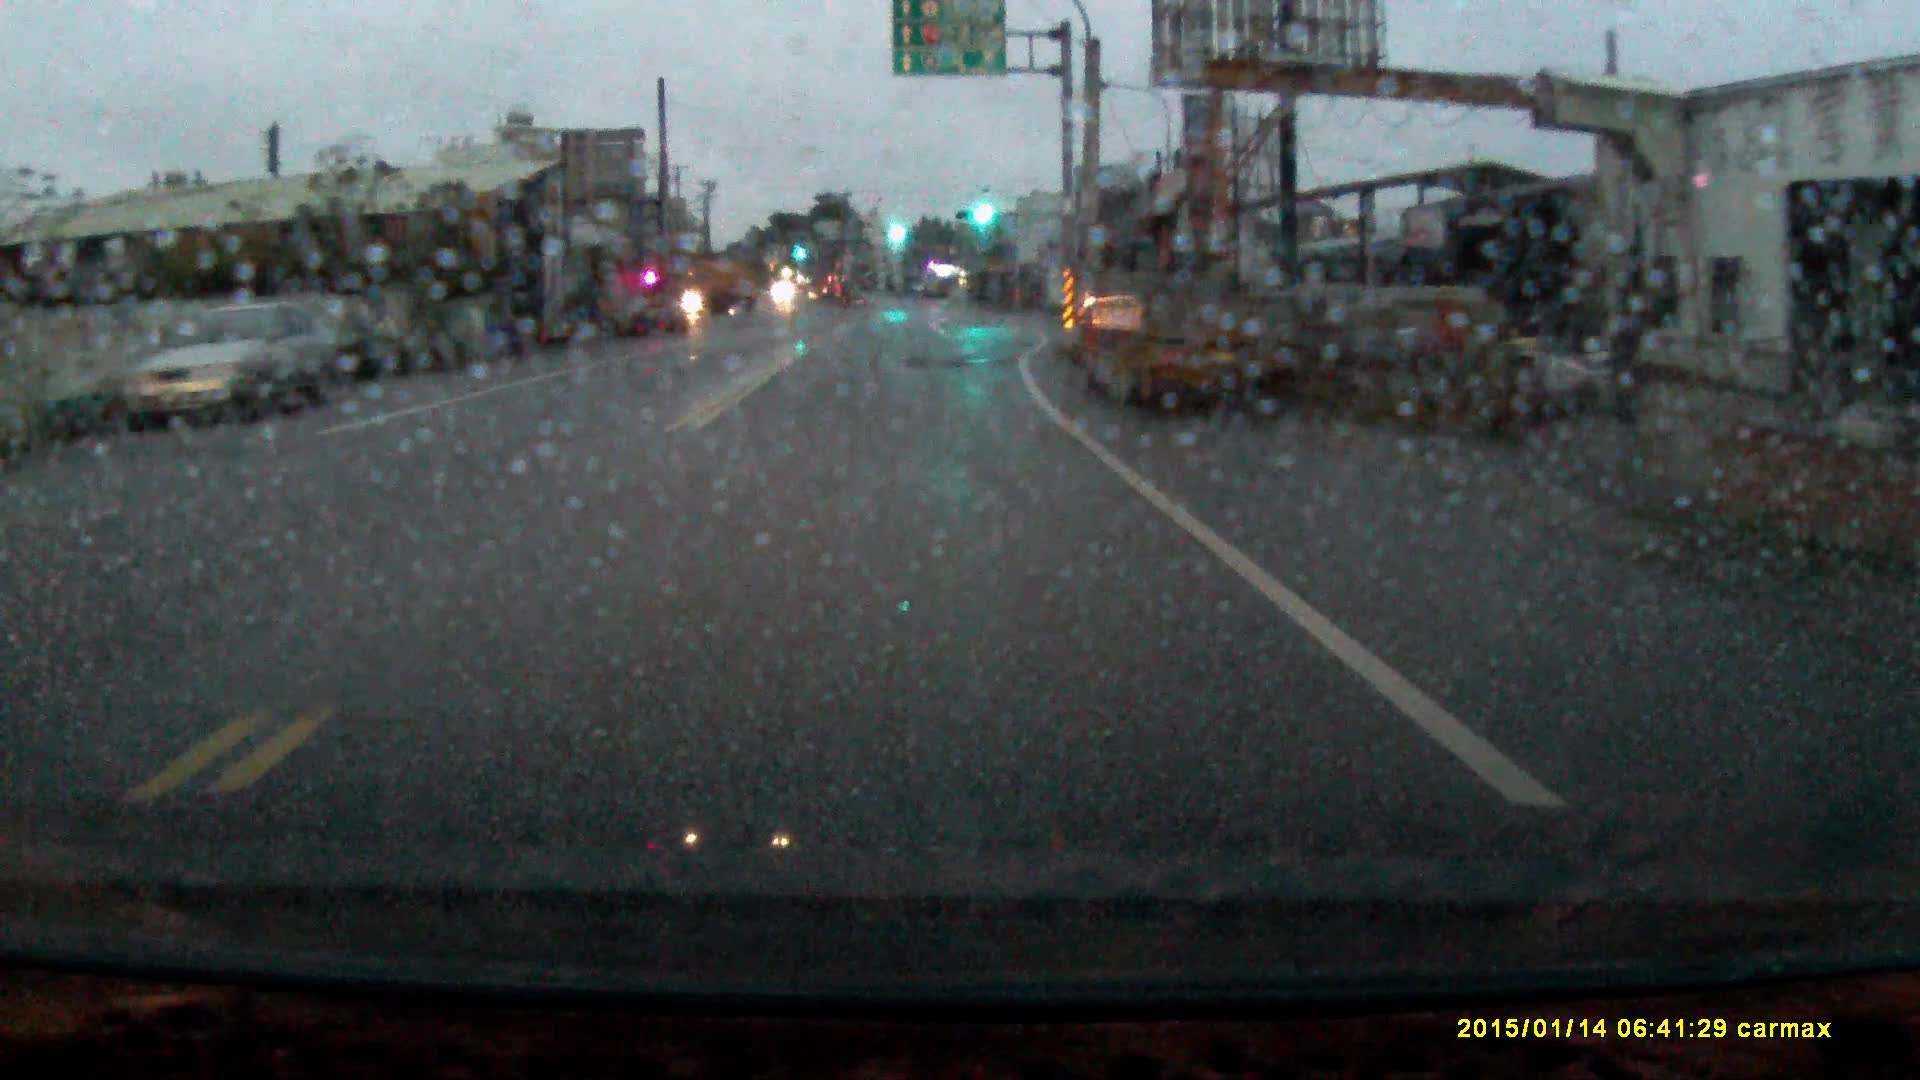vehicle: (1069, 232, 1299, 425), (123, 302, 334, 429), (673, 260, 758, 320)
